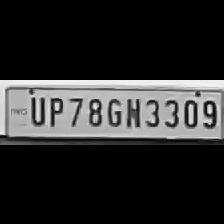0: (178, 96, 198, 128)
3: (142, 96, 162, 128), (161, 96, 179, 128)
7: (64, 93, 84, 127)
8: (84, 94, 104, 128)
9: (198, 96, 218, 128)
G: (103, 93, 123, 126)
H: (122, 94, 142, 128)
P: (45, 93, 65, 127)
U: (26, 92, 46, 126)
